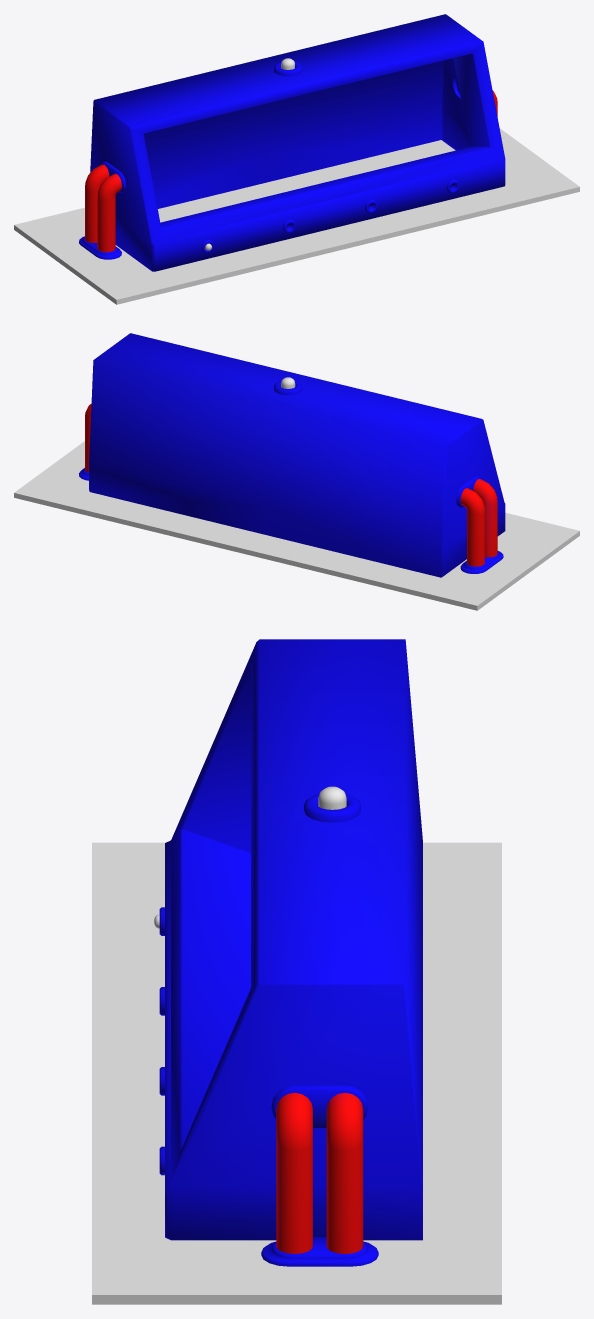
The model's file is Detonator.fbx.
3 views of the same model, one above another, from view 1: azimuth 30°, elevation 25°; view 2: azimuth 150°, elevation 25°; view 3: azimuth 270°, elevation 25° (orthographic). The views are drawn at different scales.
Parts seen in each view (by area): view 1: structure, TABLE; view 2: structure, TABLE; view 3: structure, TABLE.
Boxes of the visible parts, box(x1,y1,x2,y2) form: structure: box(79, 14, 505, 271); TABLE: box(14, 128, 579, 304); structure: box(79, 333, 505, 577); TABLE: box(14, 441, 579, 610); structure: box(159, 639, 422, 1266); TABLE: box(92, 842, 501, 1304).
Size of the model in its own units: 34 by 10.16 by 13.03.
